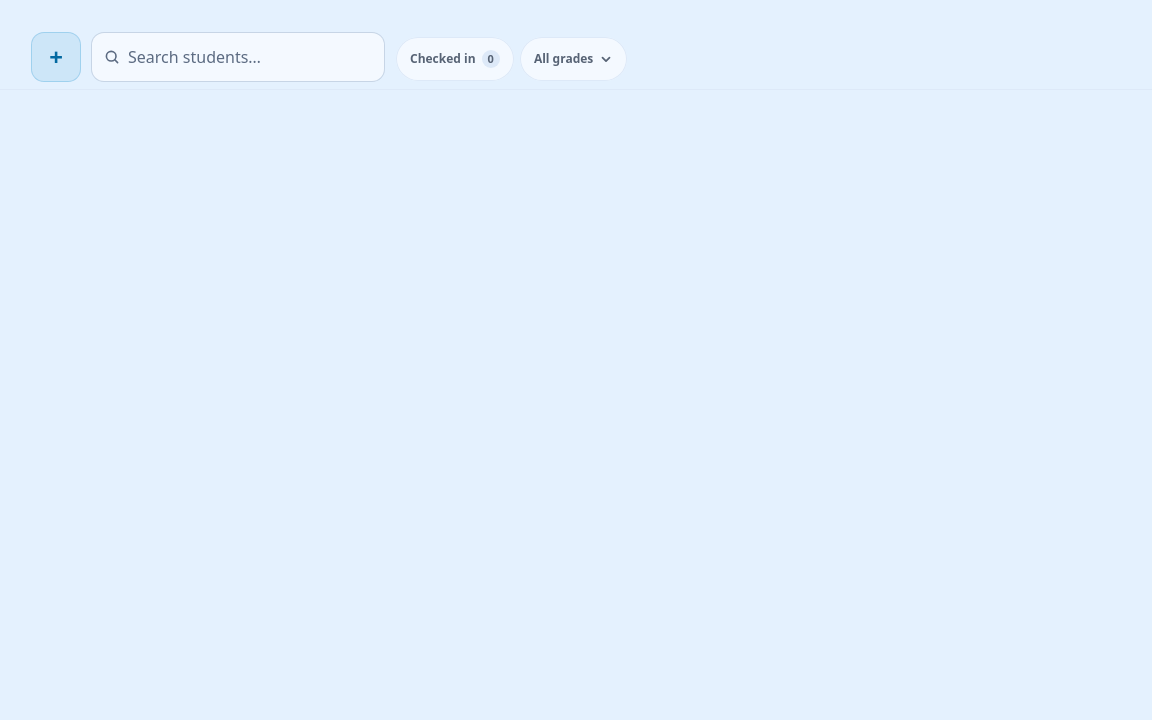
quick add › is not in the document until somebody asks for it
Click the button named "Quick add a visitor": (56, 57) [32,33,80,81]
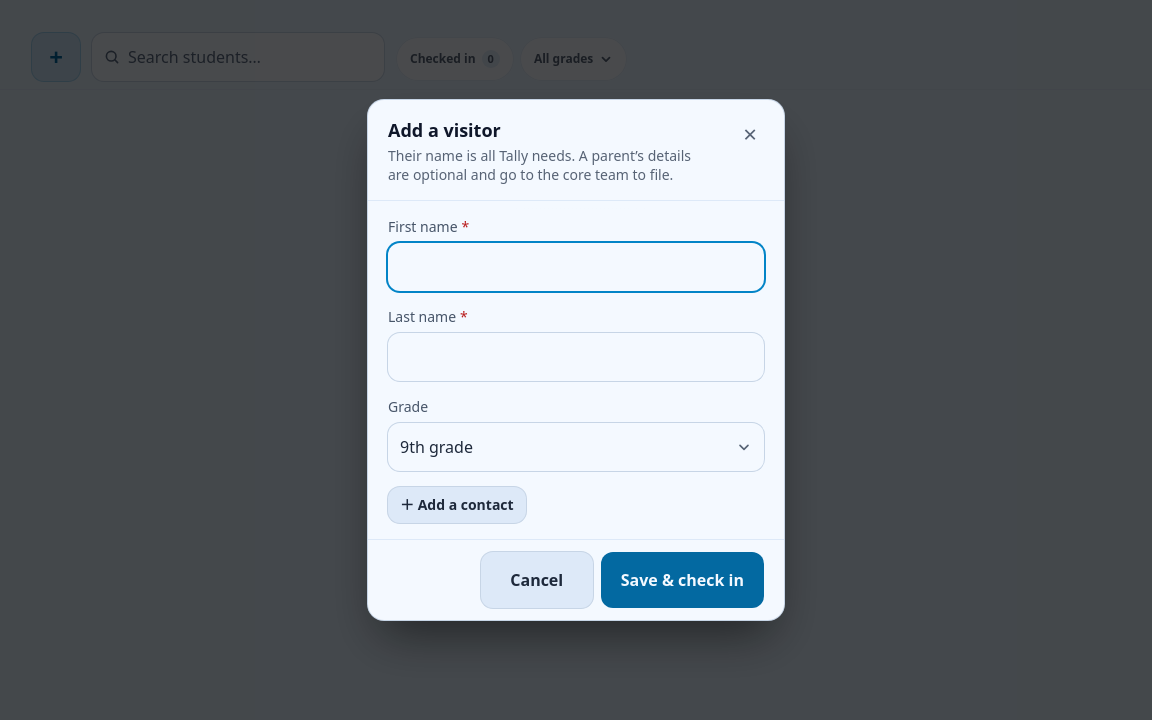
Expected: the dialog is shown, [368,100,784,620]
Expected: the field labelled "First name*" is shown, [388,243,764,291]
